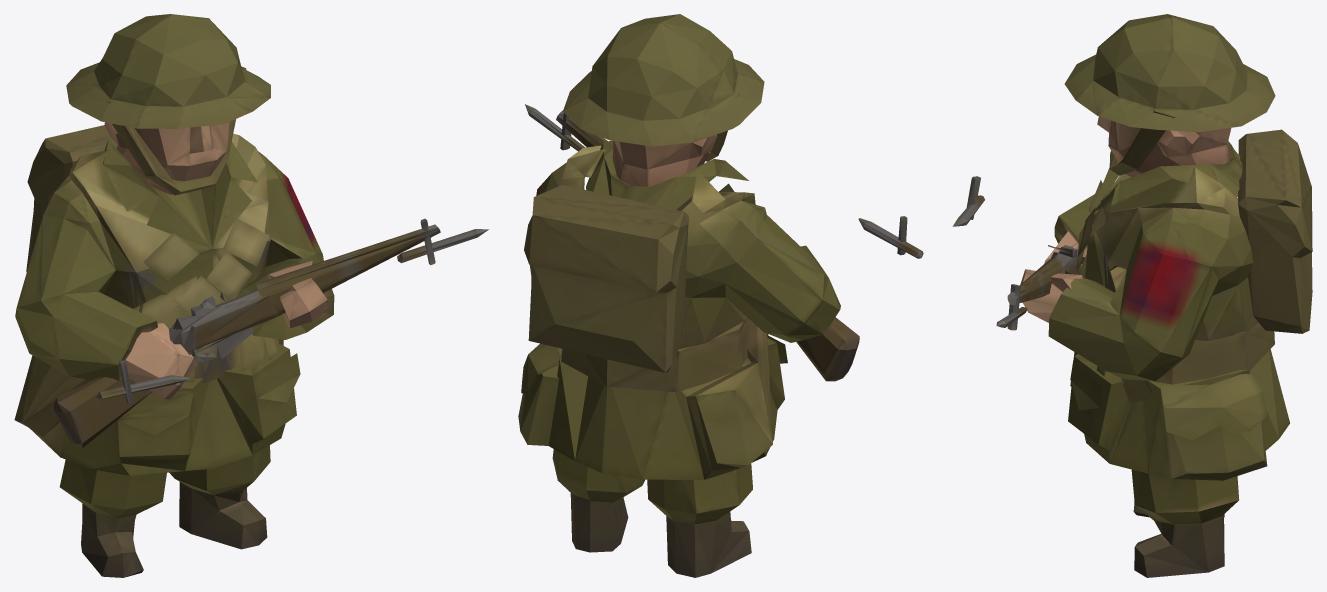
File: bulge_british_inf_2.glb
3 views of the same model, side by side, from view 1: azimuth 30°, elevation 25°; view 2: azimuth 150°, elevation 25°; view 3: azimuth 270°, elevation 25° (orthographic). The views are drawn at different scales.
Parts seen in each view (by area): view 1: bulge_british_inf.glb; view 2: bulge_british_inf.glb; view 3: bulge_british_inf.glb.
Part boxes in pixels (bbox=[...]): bulge_british_inf.glb: bbox=[14, 14, 488, 577]; bulge_british_inf.glb: bbox=[518, 14, 923, 577]; bulge_british_inf.glb: bbox=[952, 14, 1312, 577].
Size of the model in its own units: 0.2537 by 0.324 by 0.2028.
Materials: 1 (1 with a texture image).
